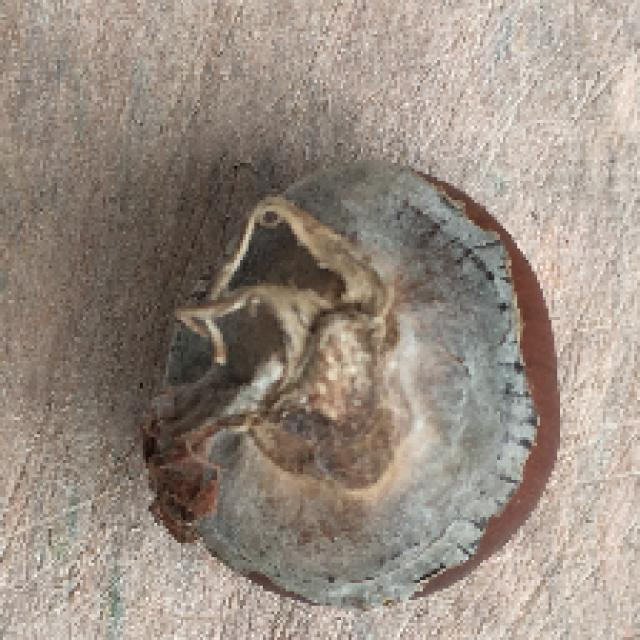damagedHazelnut: (136, 148, 574, 618)
